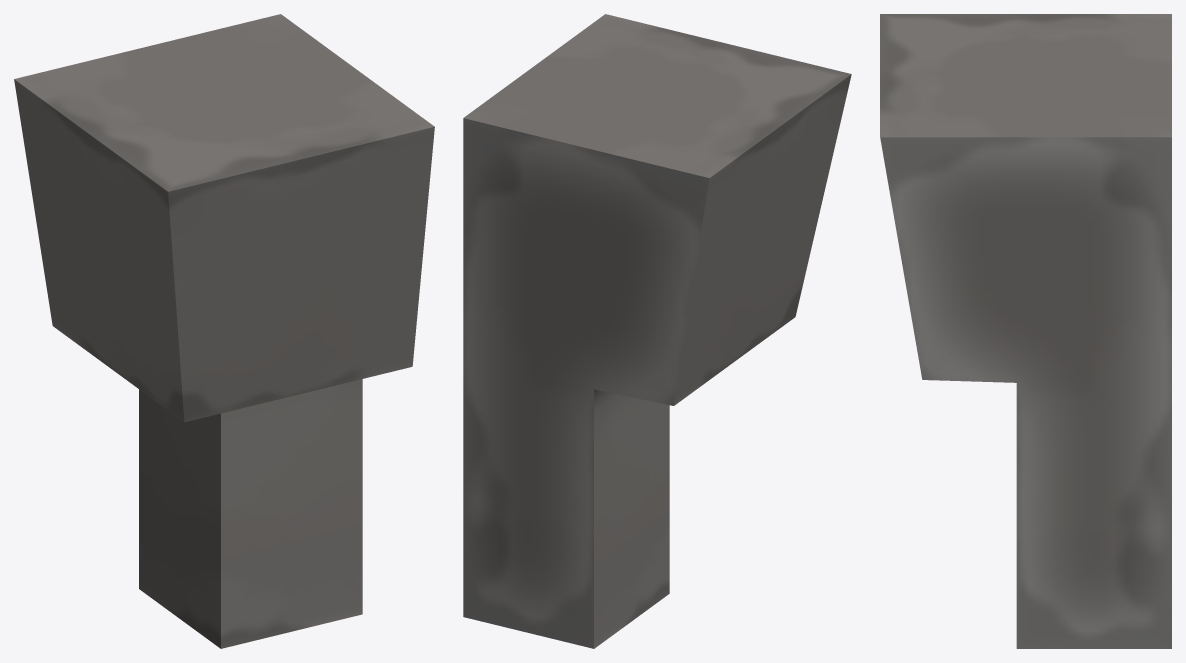
File: PropTrimFacade02_4A.FBX
3 views of the same model, side by side, from view 1: azimuth 30°, elevation 25°; view 2: azimuth 150°, elevation 25°; view 3: azimuth 270°, elevation 25° (orthographic). The views are drawn at different scales.
Parts seen in each view (by area): view 1: PropTrimFacade02_4A; view 2: PropTrimFacade02_4A; view 3: PropTrimFacade02_4A.
Boxes of the visible parts, x1,y1,x2,y2 form: PropTrimFacade02_4A: (14, 14, 434, 648); PropTrimFacade02_4A: (463, 14, 851, 648); PropTrimFacade02_4A: (880, 14, 1171, 648).
Size of what is drawn, in the model's own units: 0.3875 by 0.75 by 0.3875.
